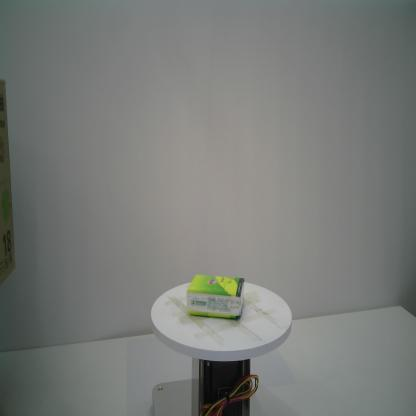Tissue: (185, 274, 245, 320)
